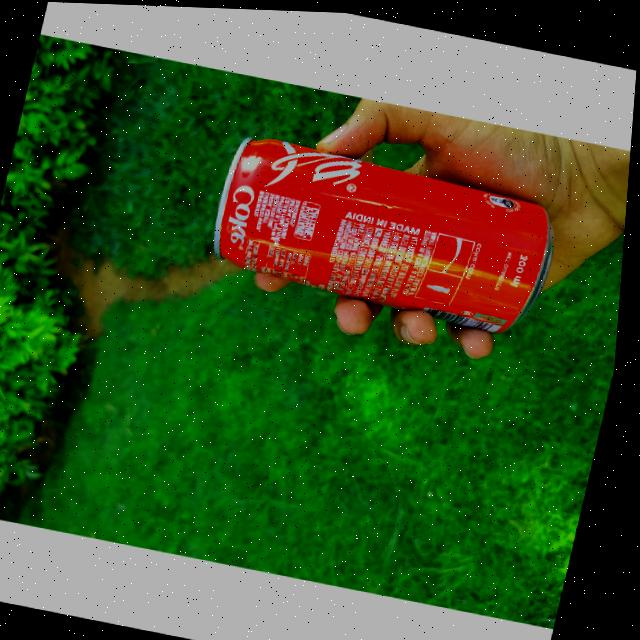Coca Cola: (194, 115, 577, 348)
